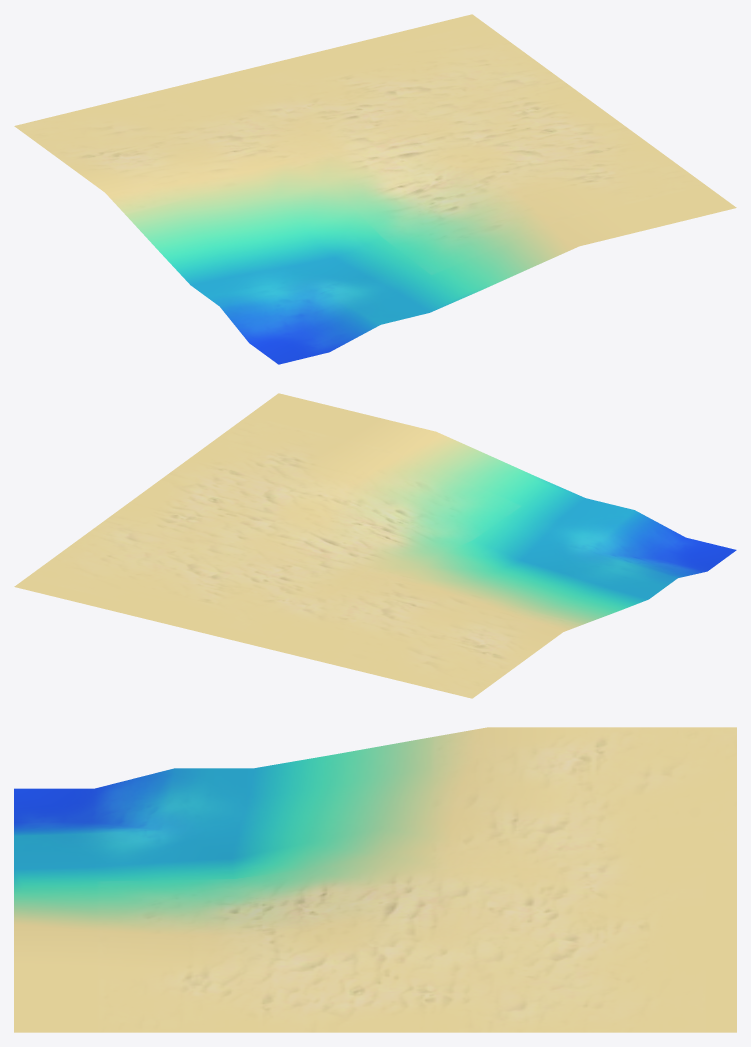
The model's file is land_beach00_e.fbx.
3 views of the same model, one above another, from view 1: azimuth 30°, elevation 25°; view 2: azimuth 150°, elevation 25°; view 3: azimuth 270°, elevation 25° (orthographic). The views are drawn at different scales.
Parts seen in each view (by area): view 1: land_beach00_e; view 2: land_beach00_e; view 3: land_beach00_e.
Boxes of the visible parts, <box> form: land_beach00_e: <box>14,14,736,364</box>; land_beach00_e: <box>14,393,736,698</box>; land_beach00_e: <box>14,727,736,1032</box>.
Bounding box in the file's own units: 48 × 4.5 × 48.
